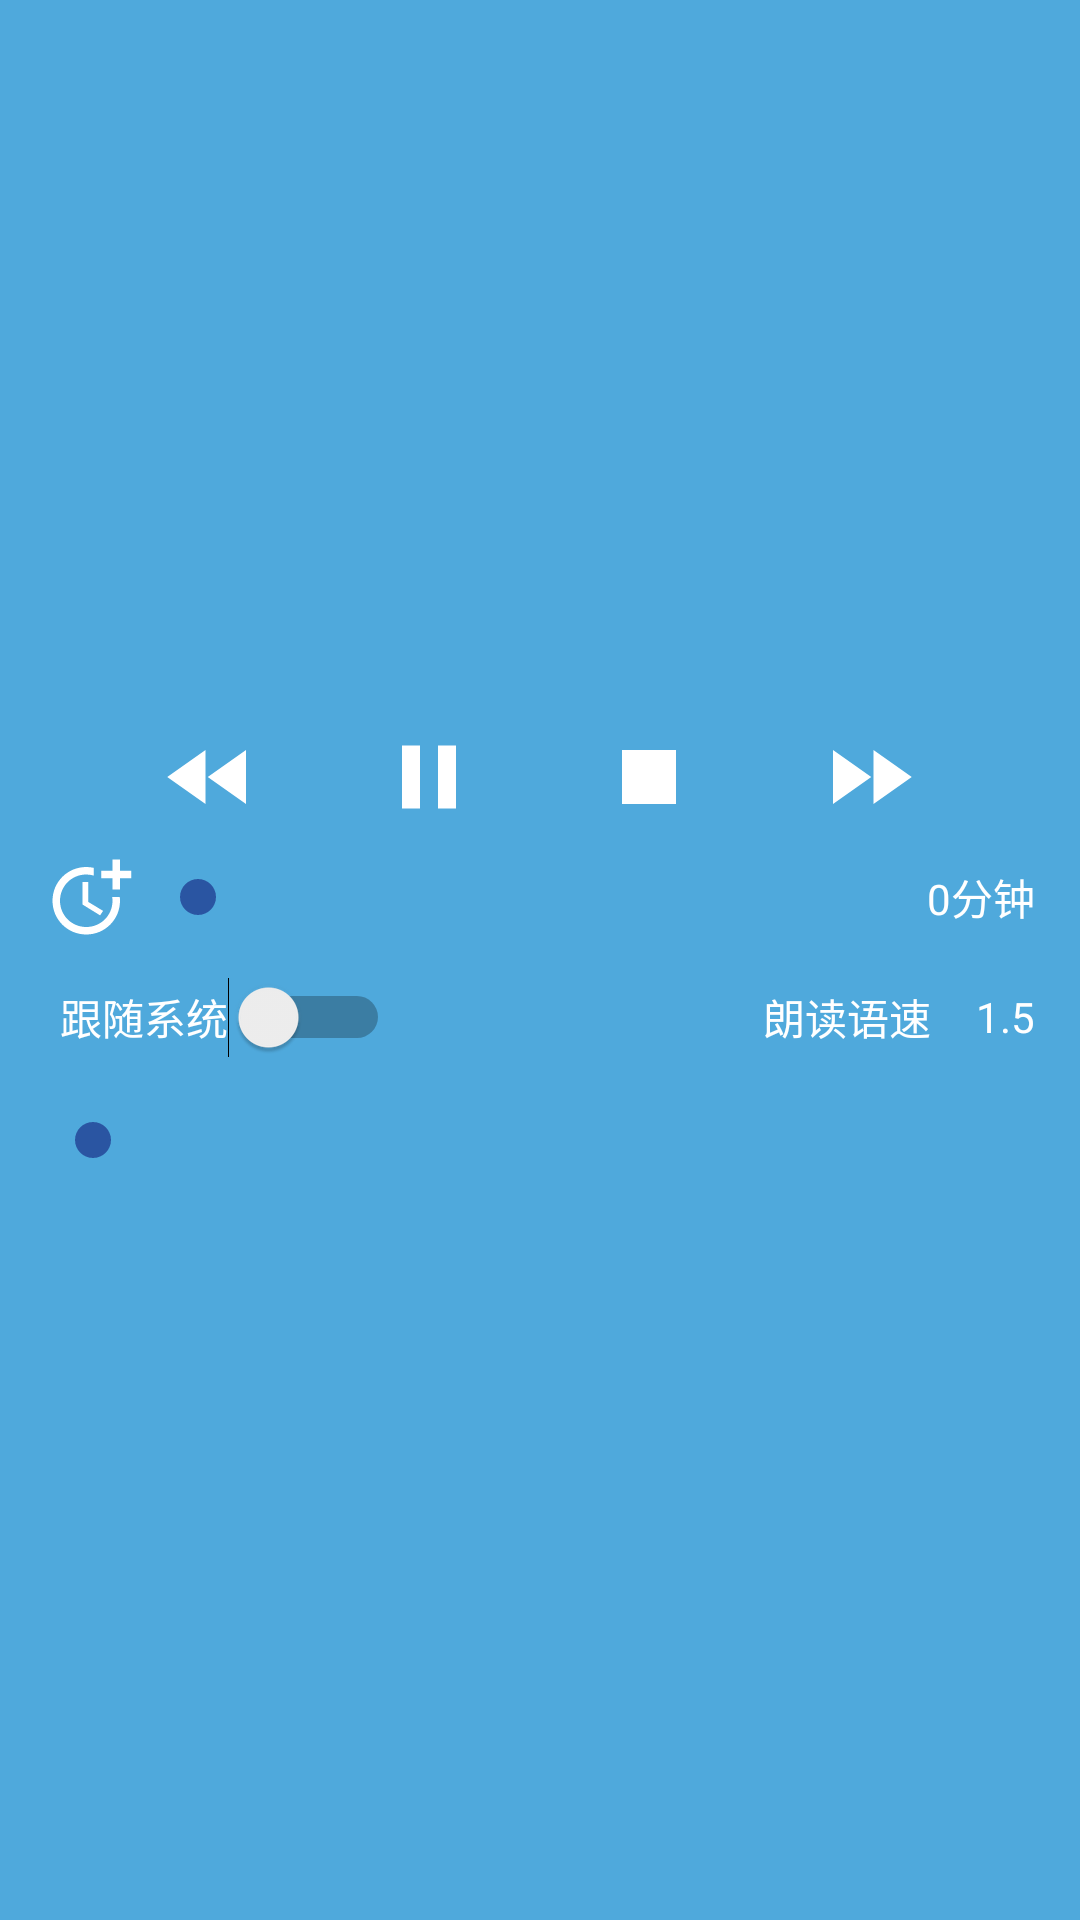

Icons on this 1080*1920 Android screen, each with its box as {"x1": x1, "y1": y1, "x2": x2, "y2": y2}:
forward: {"x1": 833, "y1": 750, "x2": 912, "y2": 804}
pause: {"x1": 402, "y1": 745, "x2": 456, "y2": 809}
rewind: {"x1": 167, "y1": 750, "x2": 246, "y2": 804}
time: {"x1": 52, "y1": 859, "x2": 132, "y2": 935}
